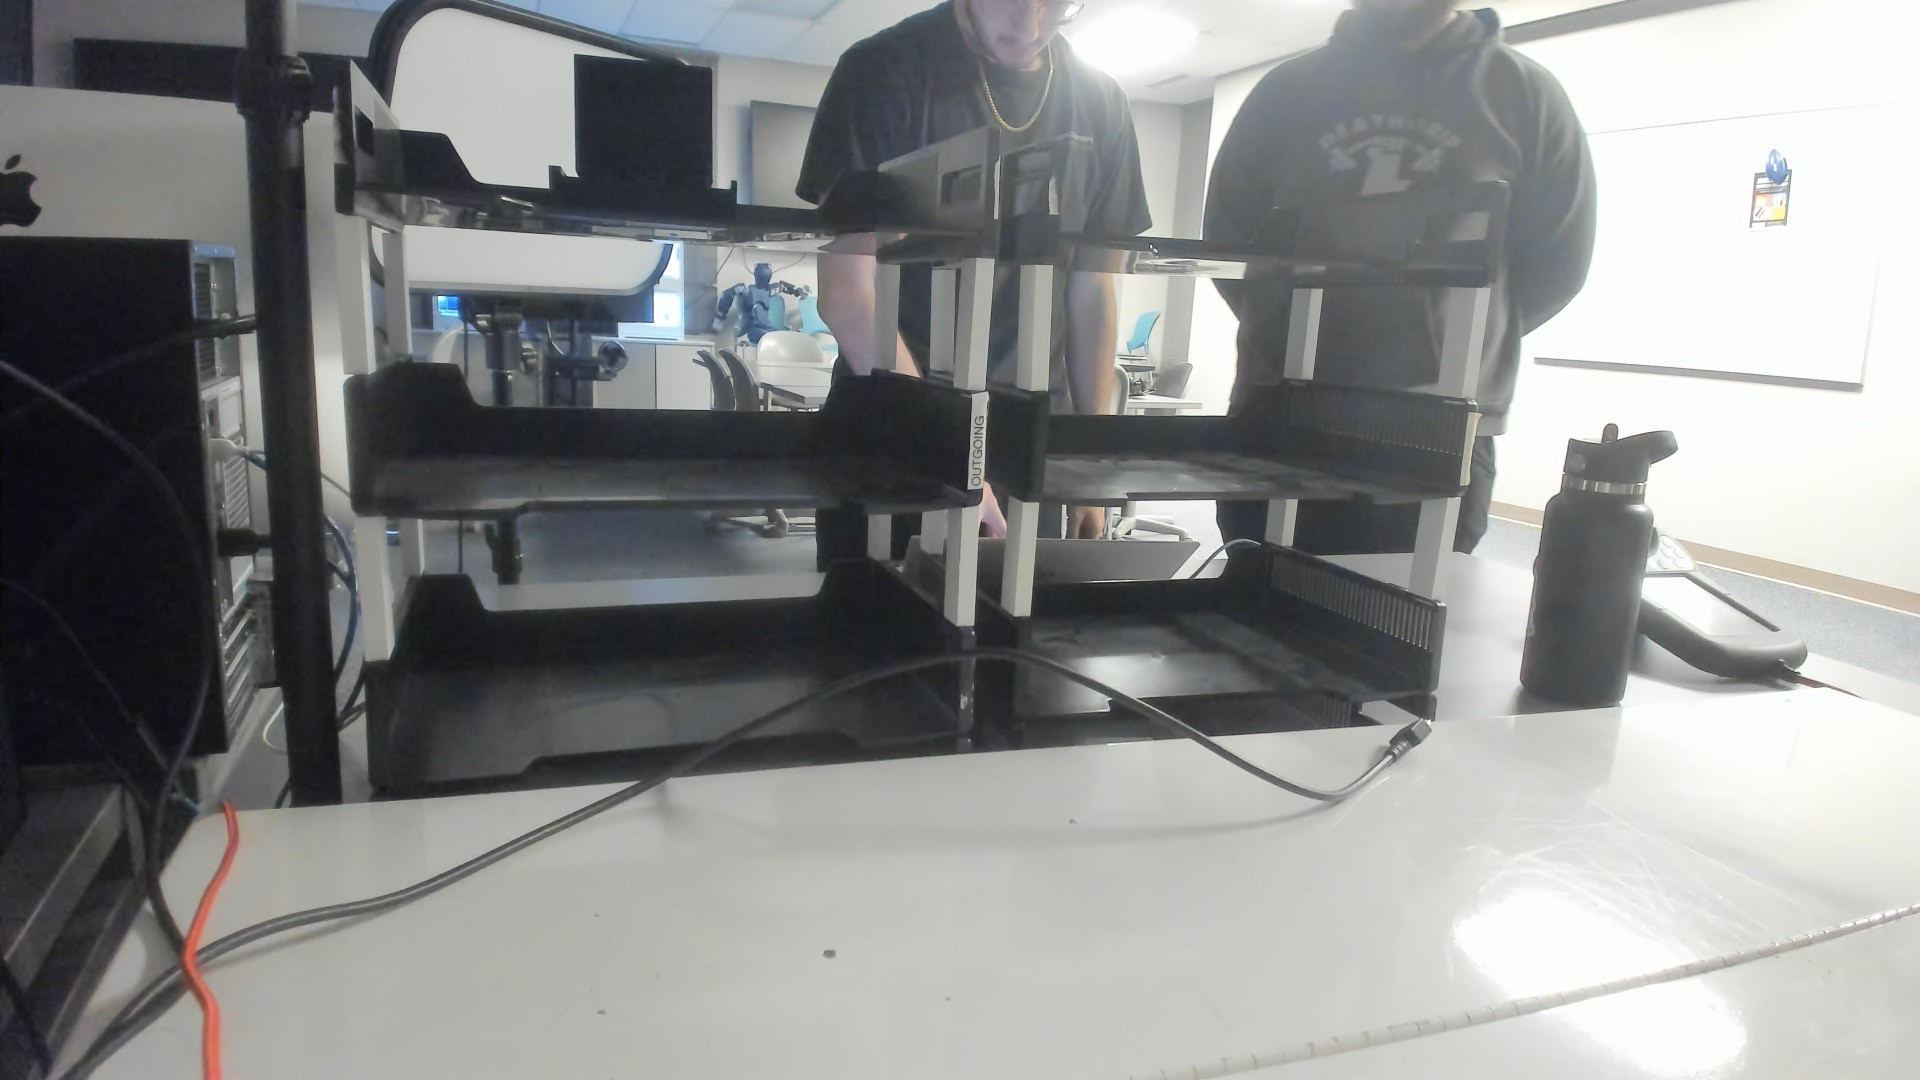black pallet: (545, 50, 749, 215)
